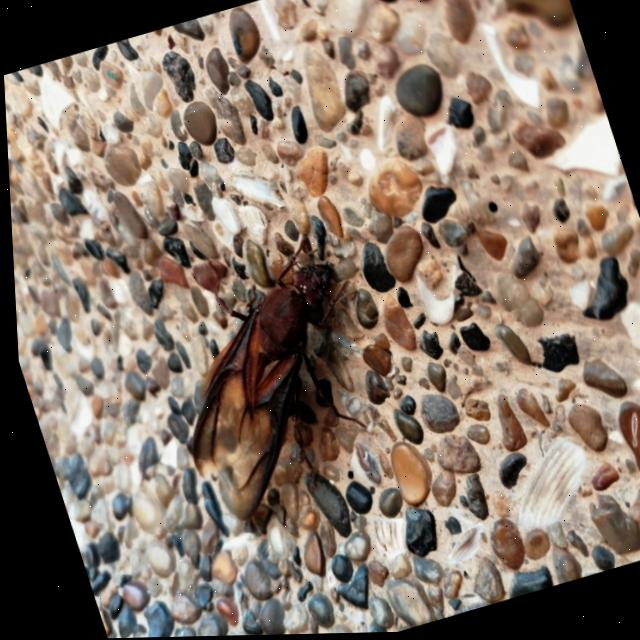Alive-Female-Alate: (132, 226, 412, 531)
